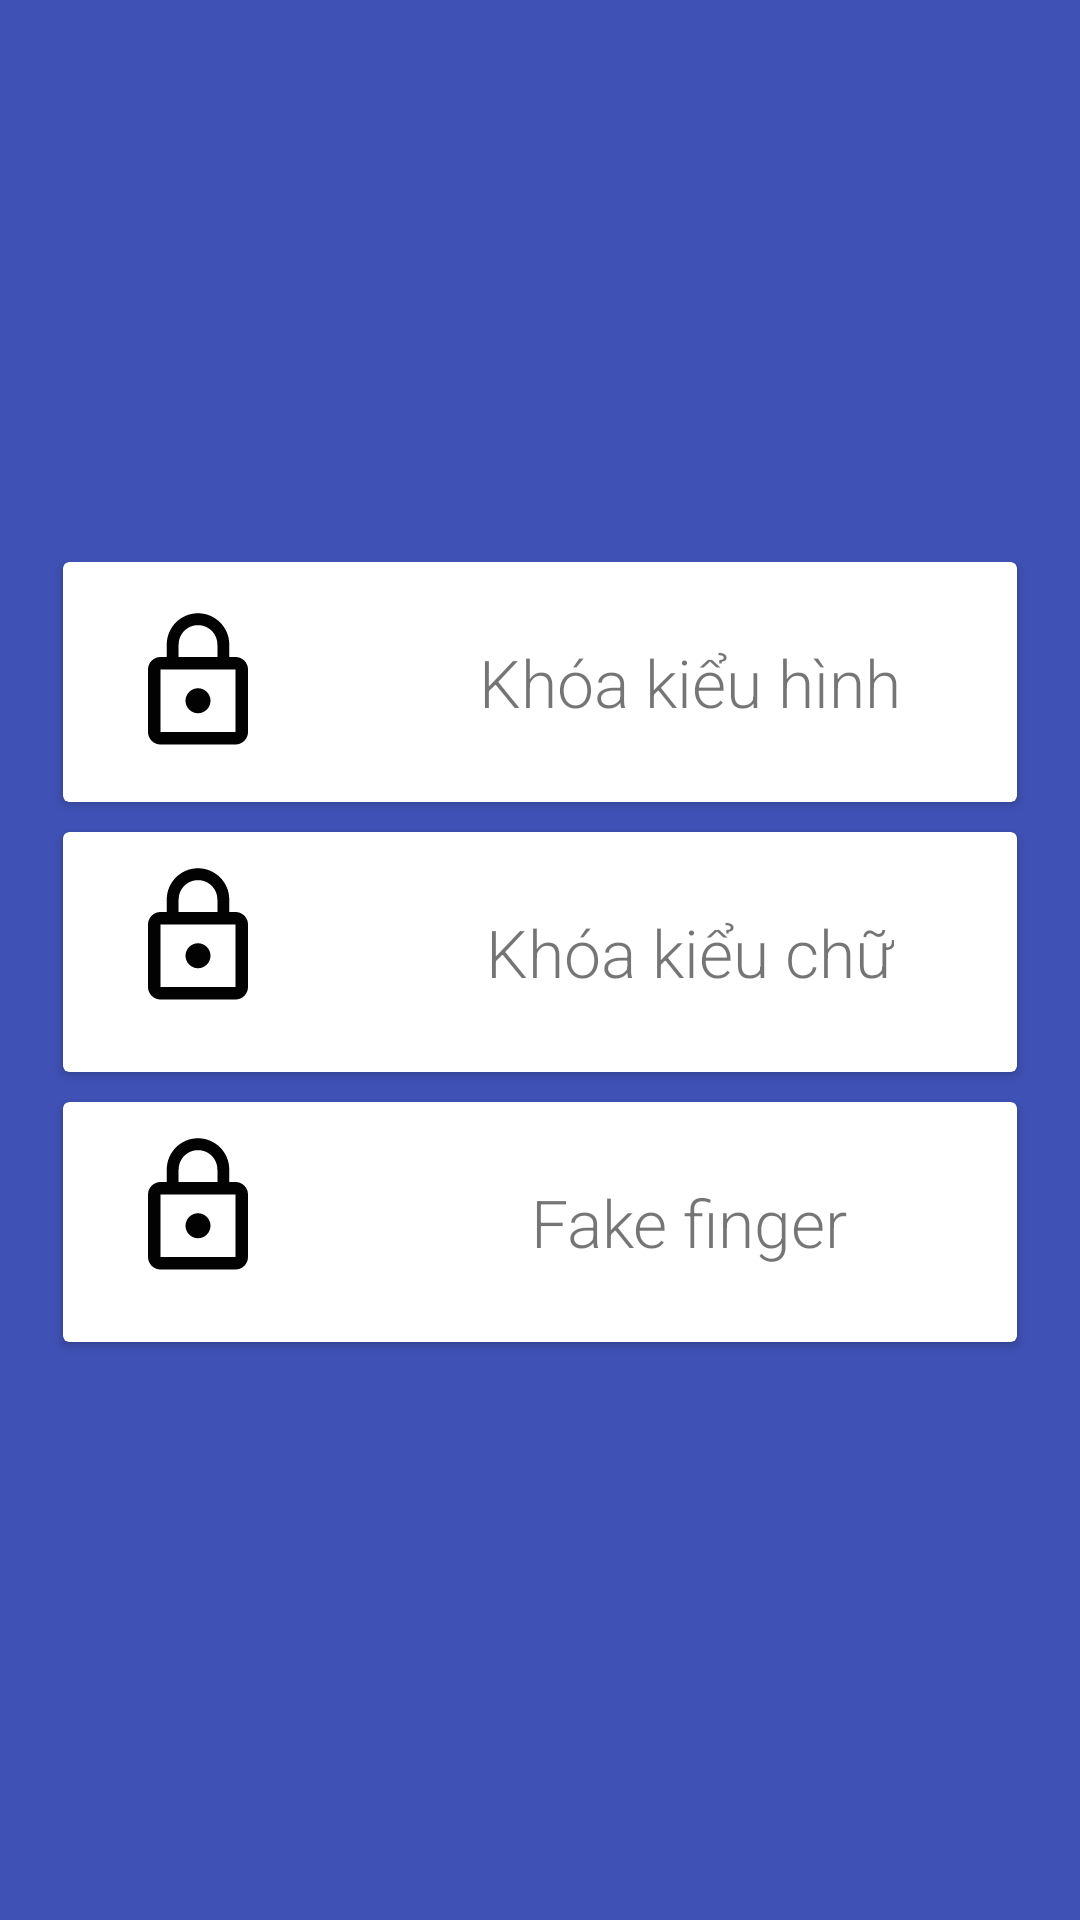

Where to tap for icons on this 1080x1920 app screen, as point (x, y):
lock: point (198, 679), point (198, 934), point (198, 1204)
